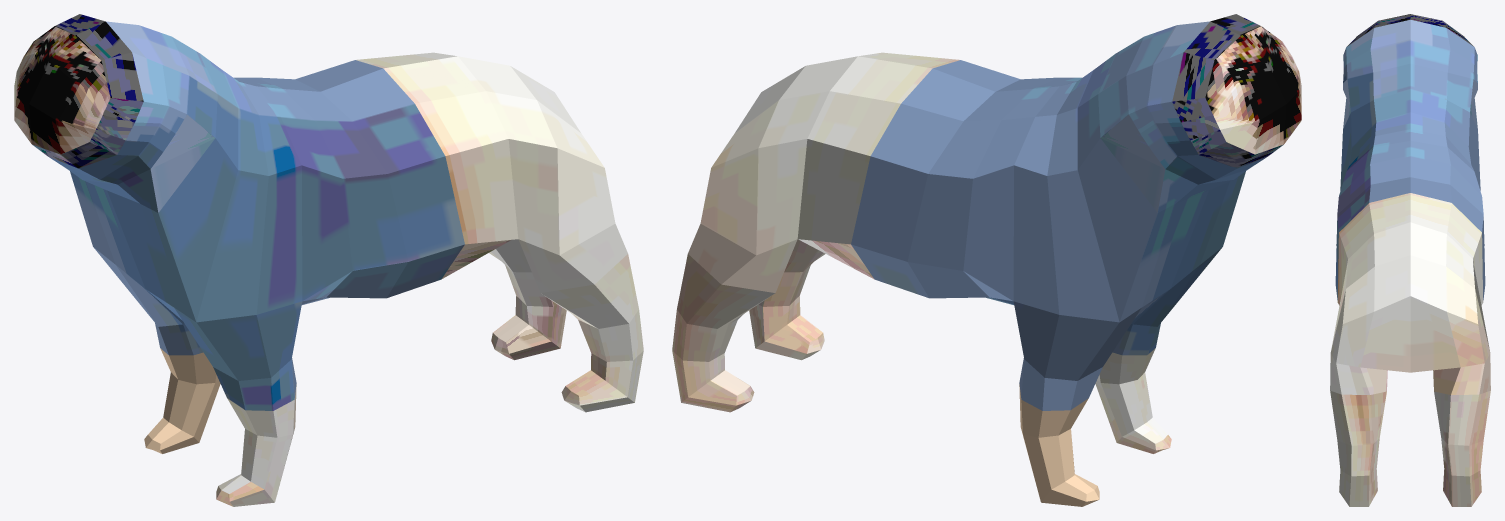
The model's file is Pug.glb.
3 views of the same model, side by side, from view 1: azimuth 30°, elevation 25°; view 2: azimuth 150°, elevation 25°; view 3: azimuth 270°, elevation 25° (orthographic). The views are drawn at different scales.
Parts seen in each view (by area): view 1: Dog; view 2: Dog; view 3: Dog.
Boxes of the visible parts, x1,y1,x2,y2 form: Dog: (14,14,643,506); Dog: (672,14,1301,506); Dog: (1330,14,1490,506).
Bounding box in the file's own units: 3.36 × 2.67 × 1.18.
4 materials, 4 textured.
